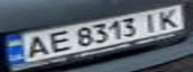1: (106, 18, 124, 40)
3: (90, 21, 112, 45), (121, 15, 142, 38)
8: (72, 25, 96, 48)
A: (18, 33, 54, 60)
E: (42, 28, 75, 54)
I: (136, 10, 163, 34)
K: (151, 7, 187, 30)
